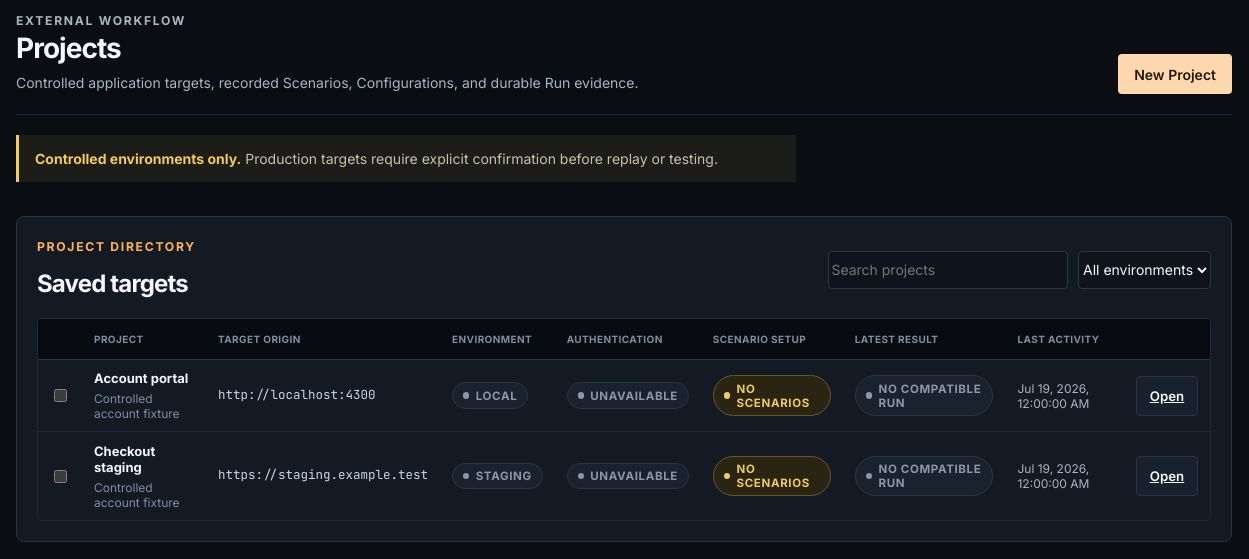
Test: CRM project workspace › filters the project directory without hiding canonical links
Check: the text "Account portal" is shown, box [94,370,194,386]
Type "checkout" into the search field with placeholder "Search projects" at x=948, y=270, box [828,251,1068,289]
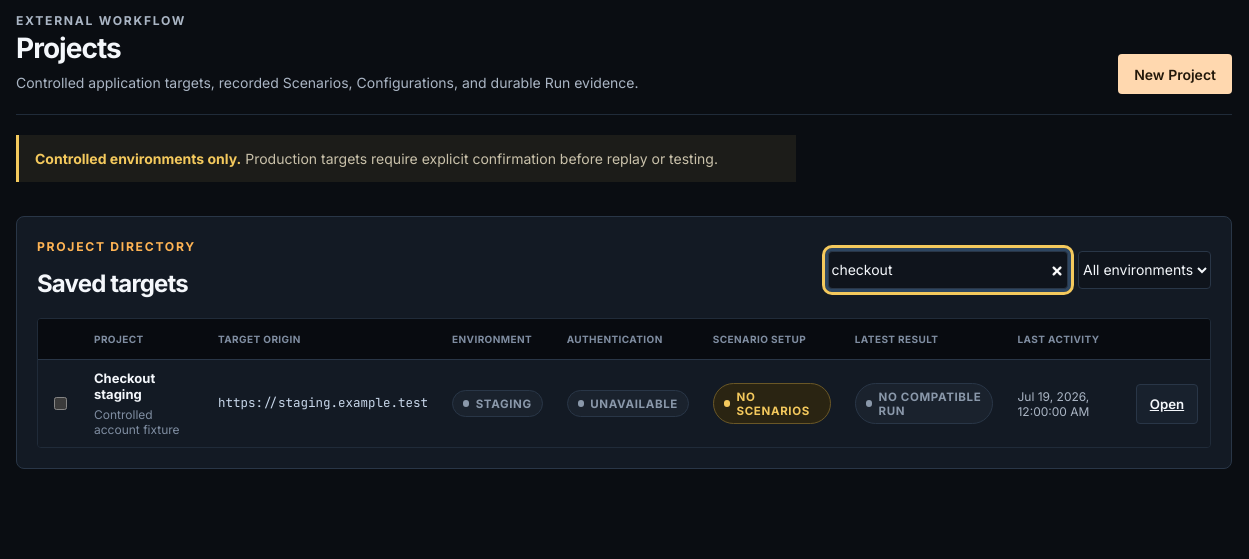
Check: the link "Account portal" is gone
